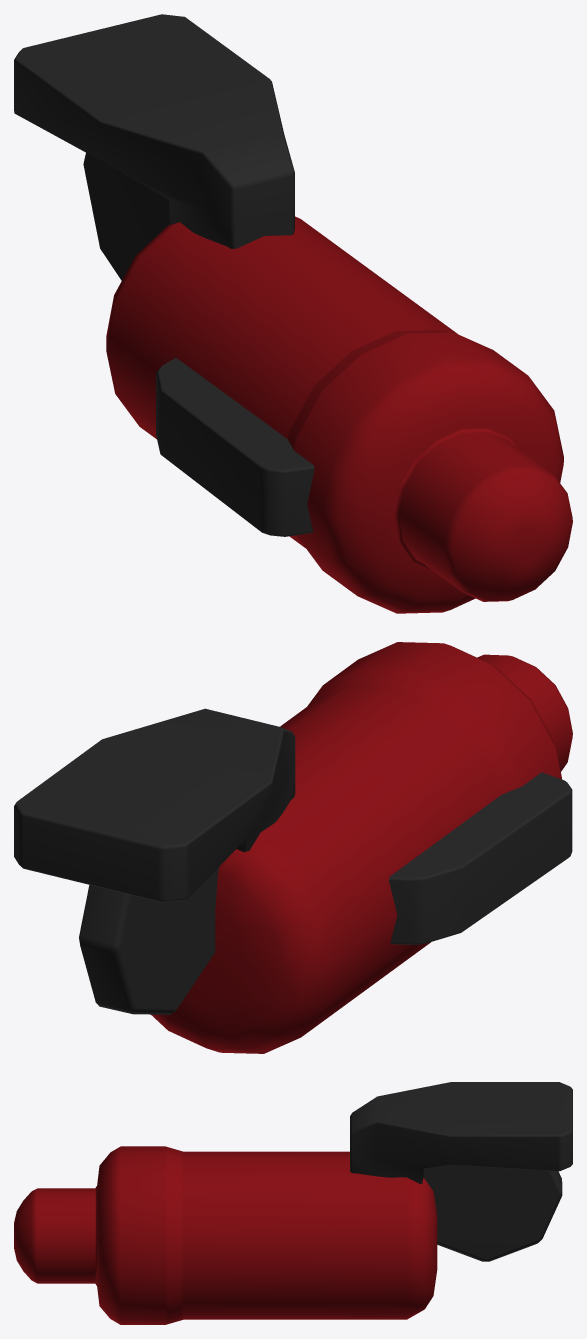
Rendered from Spaceship_main_01_Weapon_R.fbx.
The picture shows the model from 3 angles, top to bottom: view 1: azimuth 30°, elevation 25°; view 2: azimuth 150°, elevation 25°; view 3: azimuth 270°, elevation 25°; orthographic projection. The views are drawn at different scales.
Parts seen in each view (by area): view 1: Spaceship_main_01_Weapon_R; view 2: Spaceship_main_01_Weapon_R; view 3: Spaceship_main_01_Weapon_R.
Part boxes in pixels (bbox=[...]): Spaceship_main_01_Weapon_R: bbox=[14, 14, 572, 613]; Spaceship_main_01_Weapon_R: bbox=[14, 642, 572, 1053]; Spaceship_main_01_Weapon_R: bbox=[14, 1082, 572, 1324].
Size of the model in its own units: 88.99 by 100 by 243.
